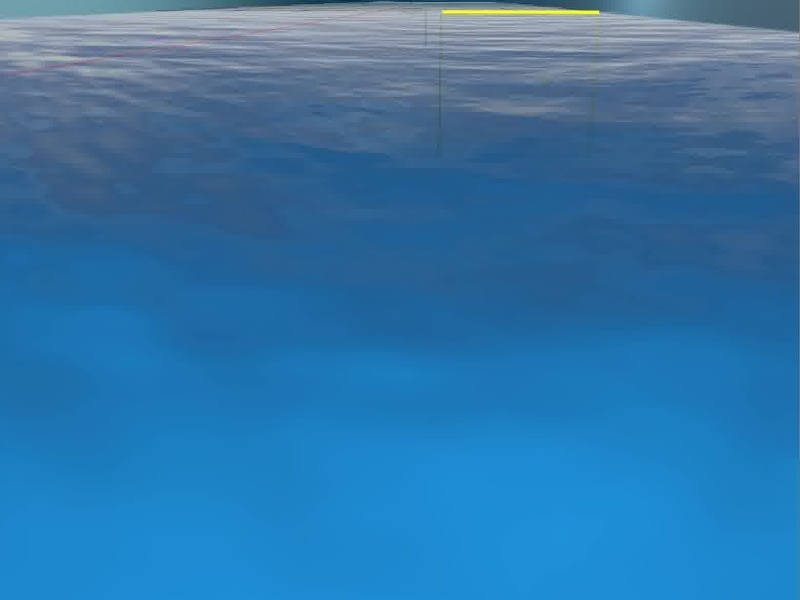gate: (436, 9, 600, 158)
